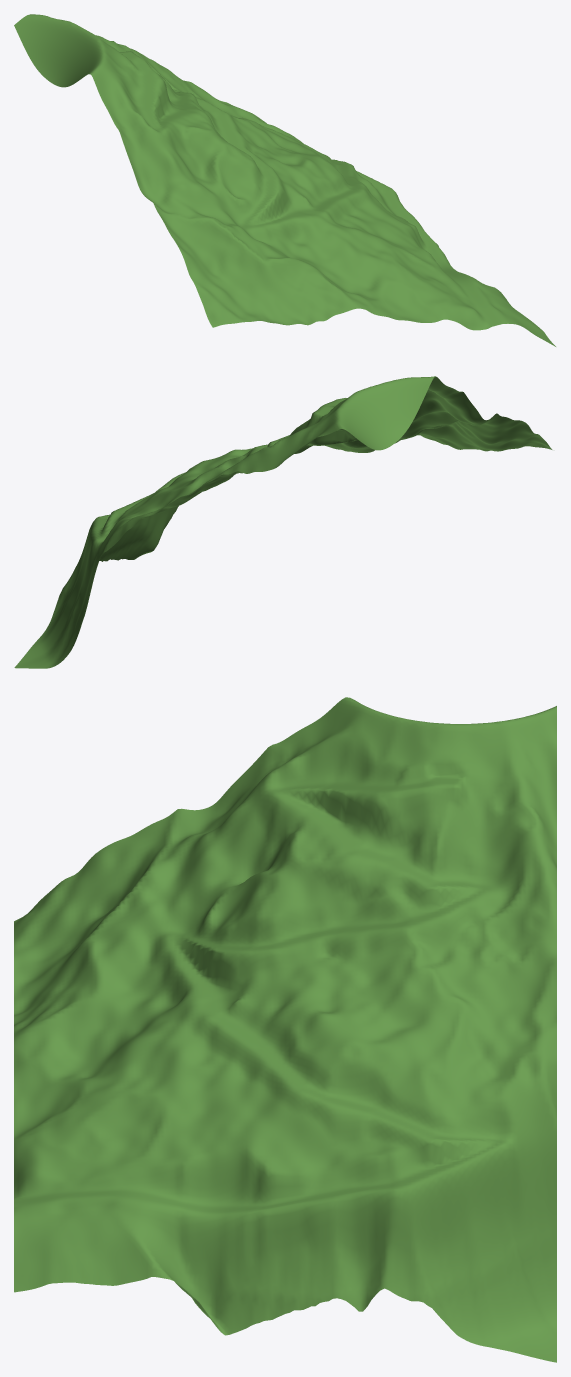
Rendered from SM_Terrain_06_02.fbx.
3 views of the same model, one above another, from view 1: azimuth 30°, elevation 25°; view 2: azimuth 150°, elevation 25°; view 3: azimuth 270°, elevation 25° (orthographic). The views are drawn at different scales.
Parts seen in each view (by area): view 1: SM_Terrain_06_02; view 2: SM_Terrain_06_02; view 3: SM_Terrain_06_02.
Boxes of the visible parts, bbox=[...] form: SM_Terrain_06_02: bbox=[14, 14, 555, 346]; SM_Terrain_06_02: bbox=[14, 376, 552, 668]; SM_Terrain_06_02: bbox=[14, 697, 556, 1362].
Bounding box in the file's own units: 384 × 341 × 384.
